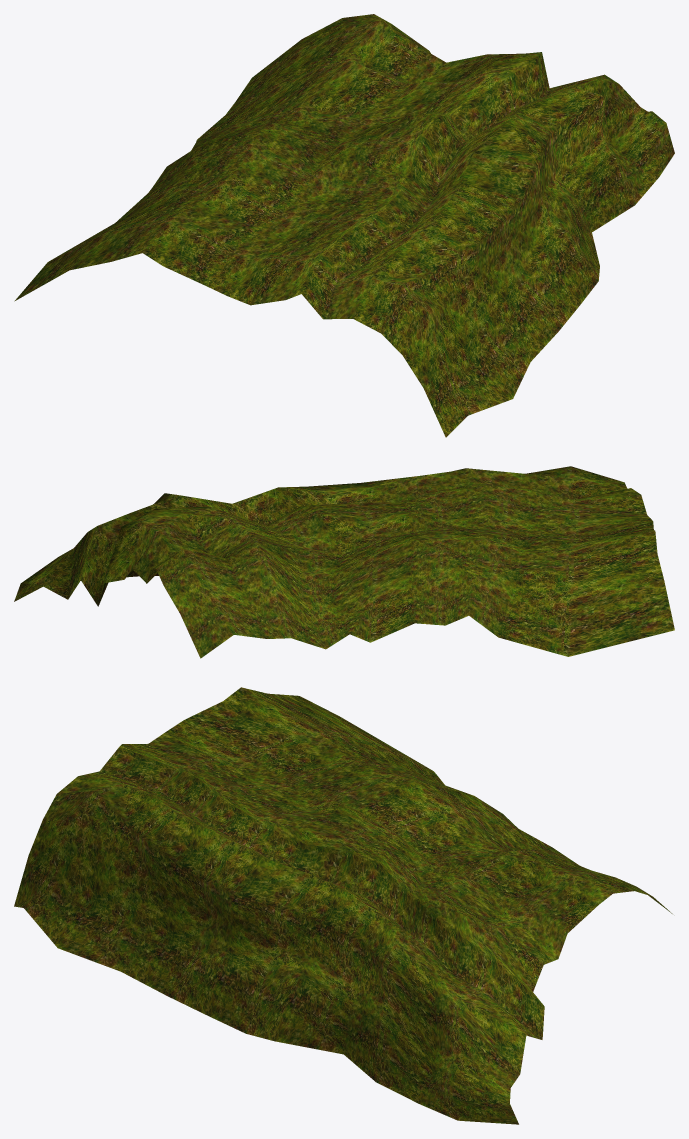
File: TROLLHOLE02_ZOBJECT01.fbx
3 renders of one model, top to bottom at view 1: azimuth 30°, elevation 25°; view 2: azimuth 150°, elevation 25°; view 3: azimuth 270°, elevation 25°, orthographic. The views are drawn at different scales.
Visible parts, largest first — view 1: TROLLHOLE02_ZOBJECT01; view 2: TROLLHOLE02_ZOBJECT01; view 3: TROLLHOLE02_ZOBJECT01.
Part boxes in pixels (x1,y1,x2,y2): TROLLHOLE02_ZOBJECT01: (14, 14, 674, 437); TROLLHOLE02_ZOBJECT01: (14, 466, 674, 658); TROLLHOLE02_ZOBJECT01: (14, 687, 672, 1124).
Bounding box in the file's own units: 483529 × 91916 × 399192.
Materials: 1 (1 with a texture image).
